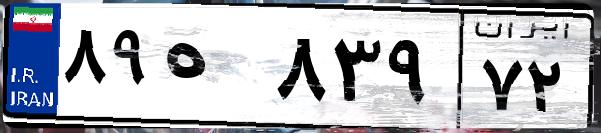2: (525, 38, 570, 115)
3: (330, 28, 385, 110)
7: (475, 38, 525, 113)
8: (270, 28, 330, 110), (57, 26, 110, 100)
9: (385, 28, 445, 110), (110, 28, 158, 98)
ه: (158, 20, 270, 120)
